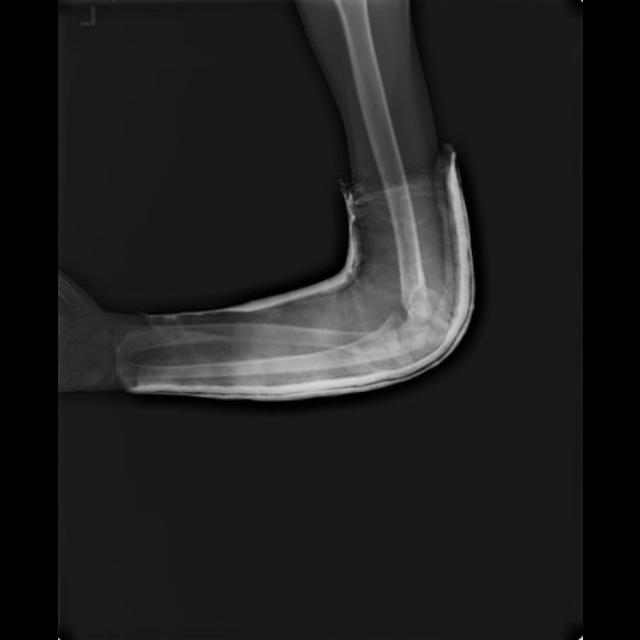Fracture: (406, 273, 430, 318)
